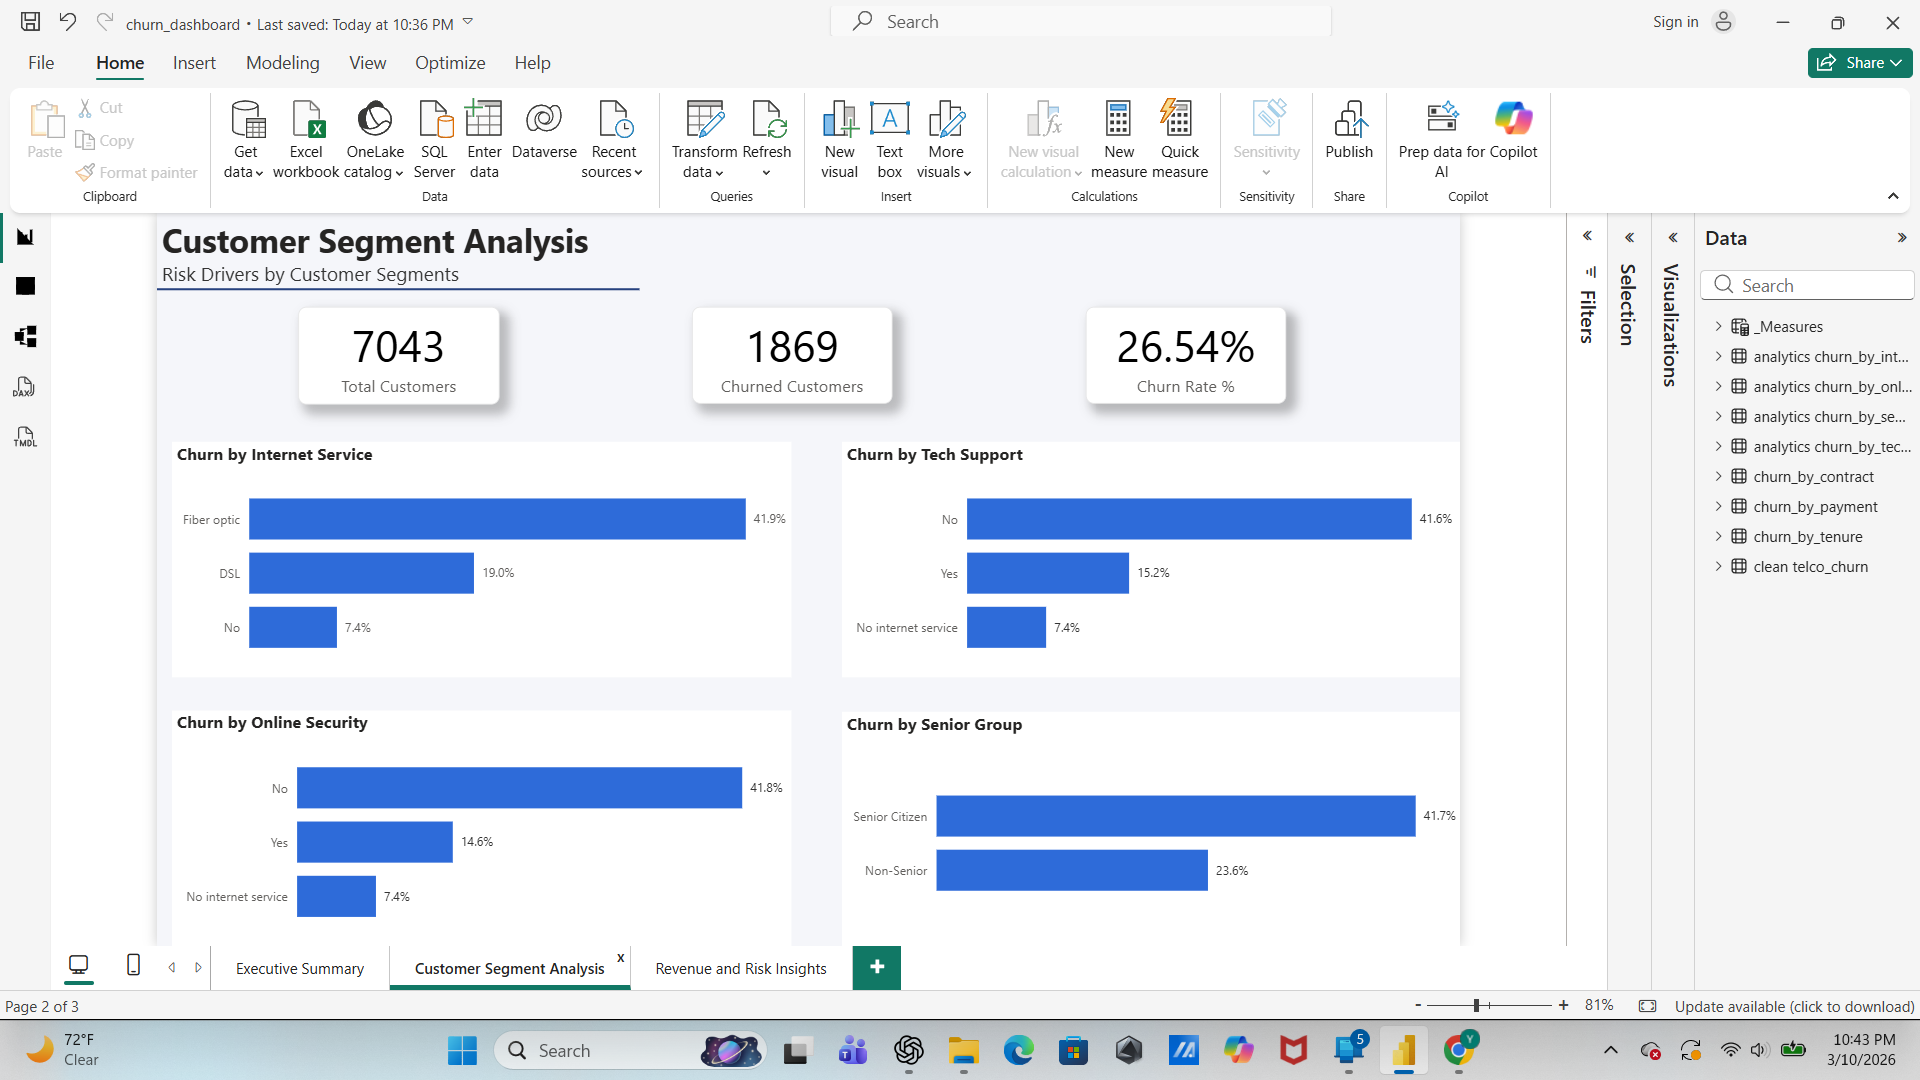

The dashboard page shown, as its layout file describes it:
{"tool":"powerbi","page":{"name":"Customer Segment Analysis","canvas":[1280,720],"ordinal":1},"visuals":[{"type":"shape","box":[0,0,473.6,149.7],"z":0},{"type":"textbox","box":[0,0,472,79],"z":1000},{"type":"clusteredBarChart","title":"Churn by Internet Service","fields":{"Y":["analytics churn_by_internet_service.1_Churn Rate %"],"Category":["analytics churn_by_internet_service.internet_service"]},"box":[15,224,608,231],"z":2000},{"type":"clusteredBarChart","title":"Churn by Tech Support","fields":{"Category":["analytics churn_by_tech_support.tech_support"],"Y":["analytics churn_by_tech_support.2_Rate Churn %"]},"box":[672,224,608,231],"z":3000},{"type":"card","fields":{"Values":["_Measures.Total Customers"]},"box":[138.1,92,197.8,95.8],"z":4000},{"type":"card","fields":{"Values":["_Measures.Churned Customers"]},"box":[525.4,92,197,95],"z":5000},{"type":"card","fields":{"Values":["_Measures.Churn Rate_ %"]},"box":[912,92,197,95],"z":6000},{"type":"clusteredBarChart","title":"Churn by Online Security","fields":{"Category":["analytics churn_by_online_security.online_security"],"Y":["analytics churn_by_online_security._2Churn Rate %"]},"box":[15,488.6,608.3,231.4],"z":7000},{"type":"clusteredBarChart","title":"Churn by Senior Group","fields":{"Y":["analytics churn_by_senior_citizen._4Churn Rate %"],"Category":["analytics churn_by_senior_citizen.senior_group"]},"box":[672,489,608,231],"z":8000}]}

Visuals, with their boxes on the page's 1280x720 design canvas (x1, y1, x2, y2). These are canvas units, not pixel positions in the 1920x1080 screenshot, which may show the page scaled, cropped or inside an application window:
shape: <region>0, 0, 474, 150</region>
textbox: <region>0, 0, 472, 79</region>
"Churn by Internet Service" clusteredBarChart: <region>15, 224, 623, 455</region>
"Churn by Tech Support" clusteredBarChart: <region>672, 224, 1280, 455</region>
card - _Measures.Total Customers: <region>138, 92, 336, 188</region>
card - _Measures.Churned Customers: <region>525, 92, 722, 187</region>
card - _Measures.Churn Rate_ %: <region>912, 92, 1109, 187</region>
"Churn by Online Security" clusteredBarChart: <region>15, 489, 623, 720</region>
"Churn by Senior Group" clusteredBarChart: <region>672, 489, 1280, 720</region>
